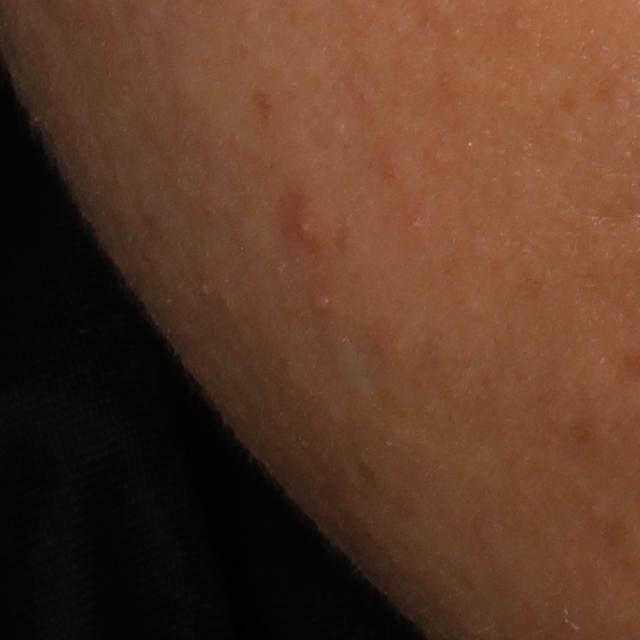papule: (289, 203, 323, 250), (309, 289, 335, 316)
